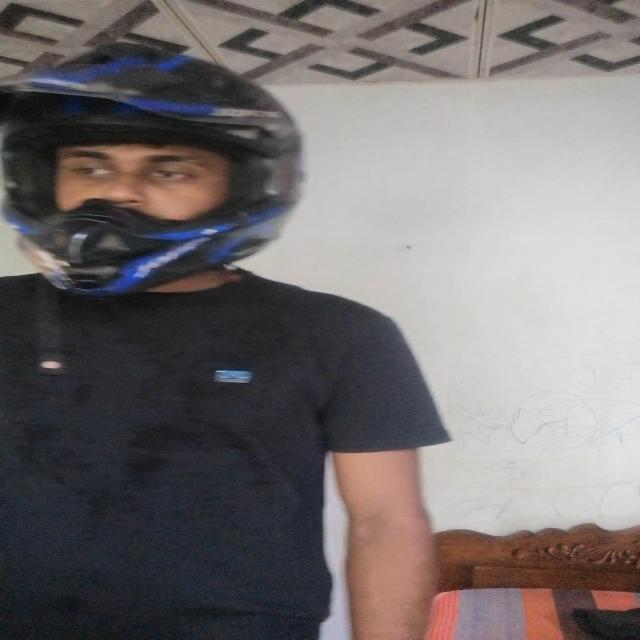Helmet_Wearer: (0, 58, 295, 311)
Person: (0, 55, 440, 640)
